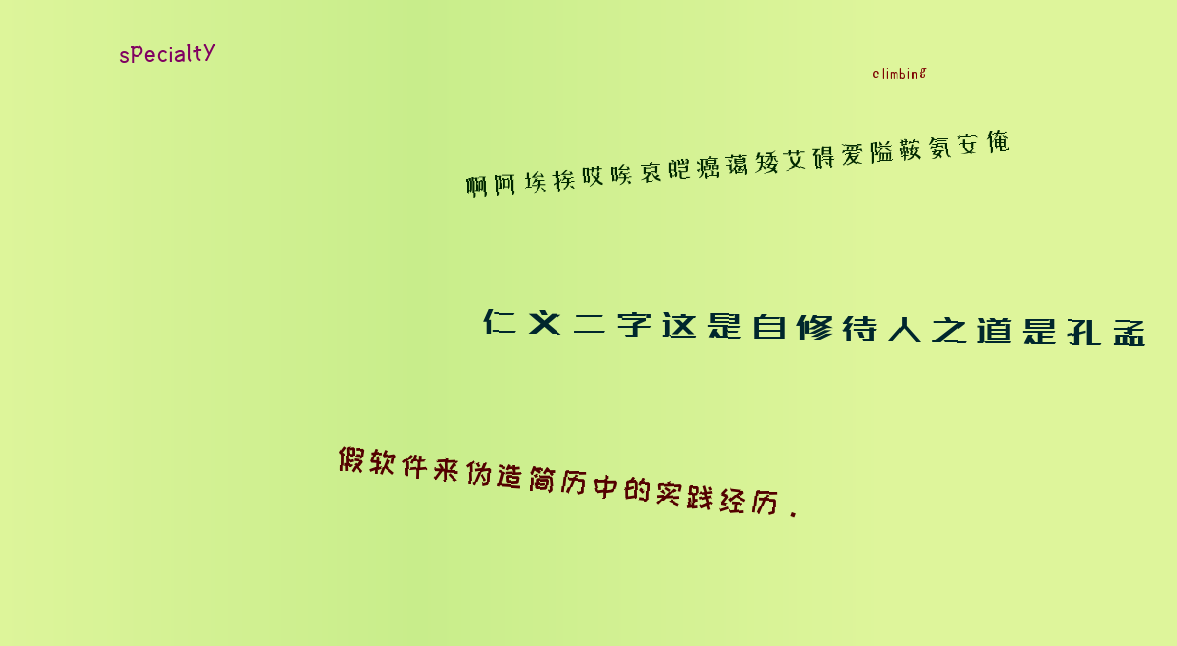h_text: (461, 113, 1013, 215), (478, 284, 1151, 364), (333, 433, 814, 531), (42, 34, 293, 65), (803, 58, 996, 81)
